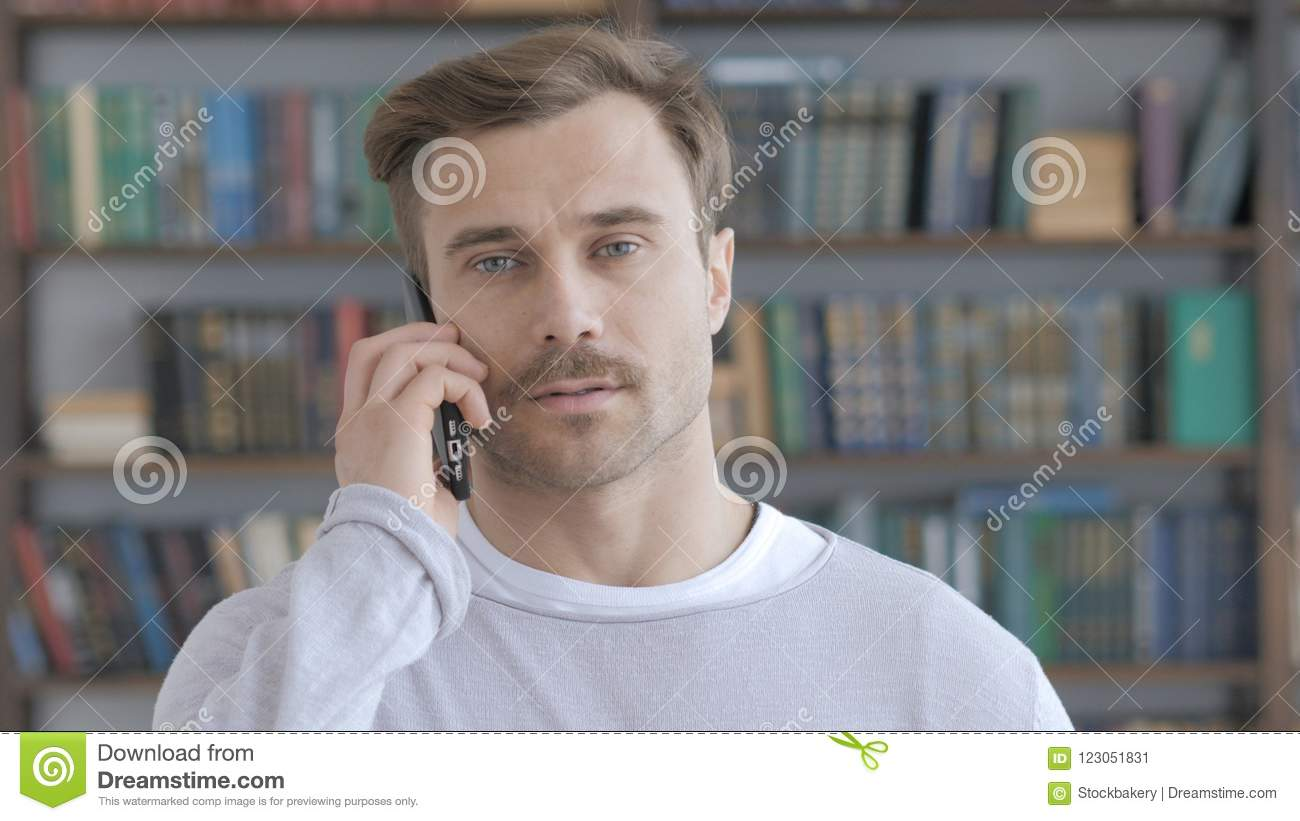phone: (386, 240, 477, 509)
talk: (330, 196, 679, 526)
